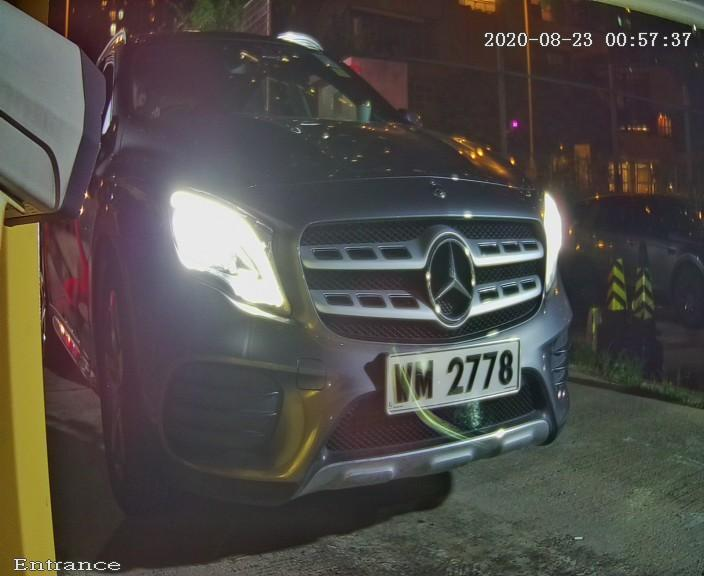Car: (19, 11, 629, 546)
License Plate: (351, 306, 536, 445)
